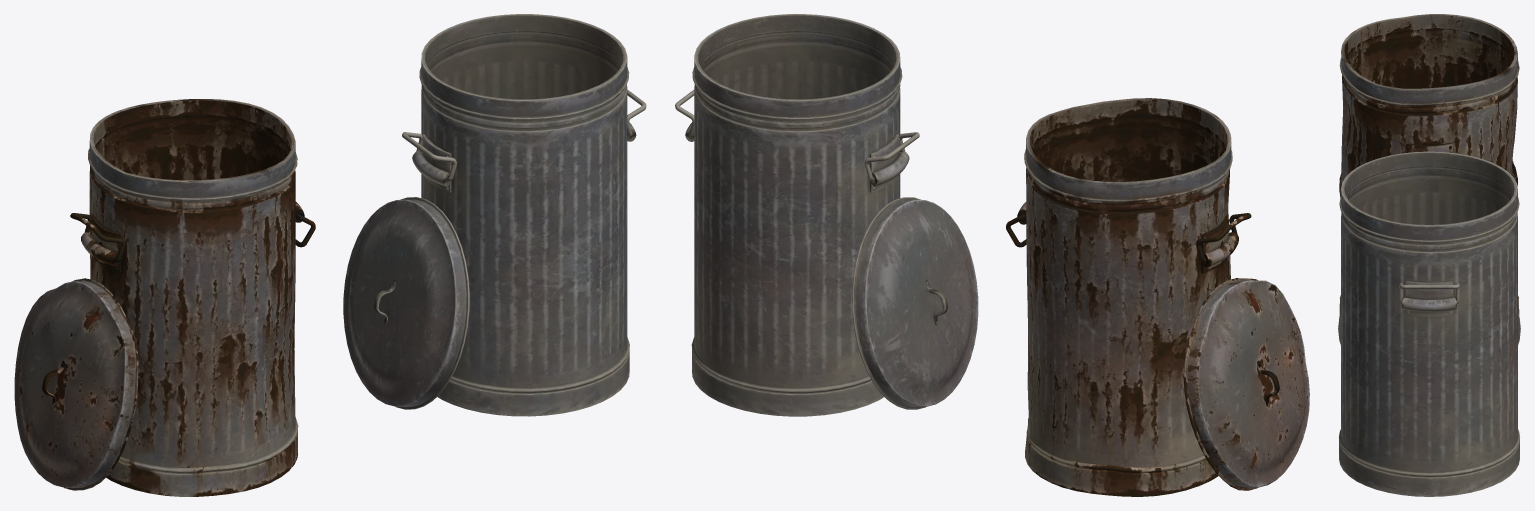
Rendered from metal_trash_can.glb.
3 renders of one model, left to right at view 1: azimuth 30°, elevation 25°; view 2: azimuth 150°, elevation 25°; view 3: azimuth 270°, elevation 25°, orthographic. The views are drawn at different scales.
Visible parts, largest first — view 1: metal_trash_can_handle_left, metal_trash_can_rust; view 2: metal_trash_can_handle_left, metal_trash_can_rust; view 3: metal_trash_can_handle_left, metal_trash_can_rust.
Boxes of the visible parts, bbox=[...] form: metal_trash_can_handle_left: bbox=[343, 14, 646, 416]; metal_trash_can_rust: bbox=[14, 99, 315, 496]; metal_trash_can_handle_left: bbox=[675, 14, 978, 416]; metal_trash_can_rust: bbox=[1006, 98, 1309, 496]; metal_trash_can_handle_left: bbox=[1338, 151, 1520, 496]; metal_trash_can_rust: bbox=[1339, 14, 1519, 316].
Size of the model in its own units: 1.78 by 0.9062 by 0.5563.
2 materials, 2 textured.
